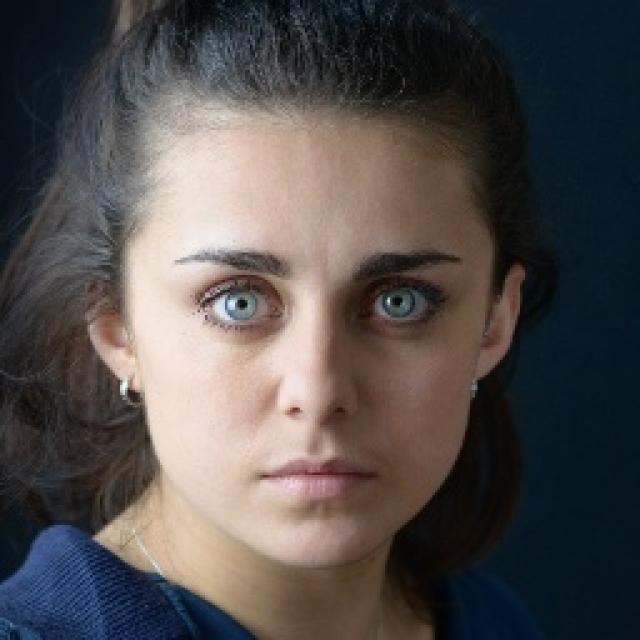earlobe: (103, 346, 143, 392), (474, 338, 507, 384)
eye: (197, 284, 283, 328), (359, 283, 441, 325)
nose: (280, 405, 355, 447)
wholeear: (82, 288, 144, 392), (474, 262, 526, 383)
